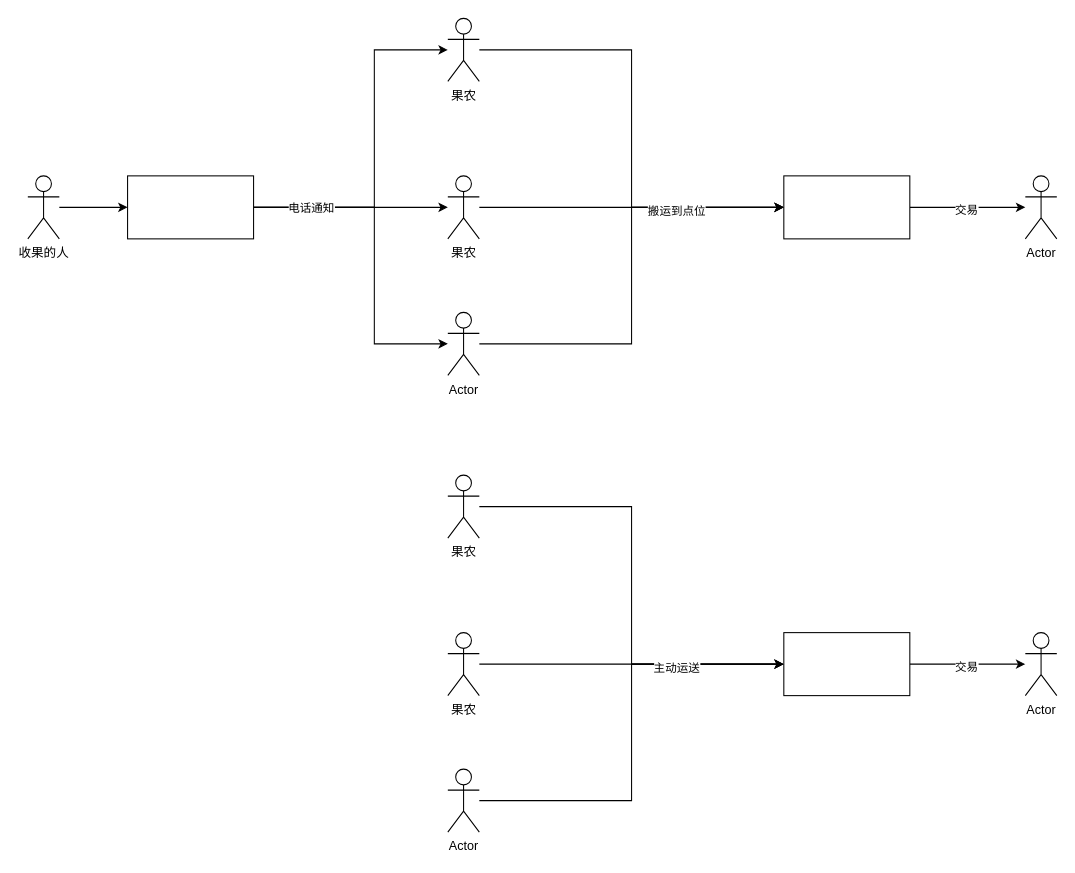
This 1075x873 diagram has some shape labels left out. The centre of each missing label's shape, as x and y in pixels:
"开车到达点位" goes at [190,207].
"收购点" goes at [846,664].
"称重" goes at [846,207].
